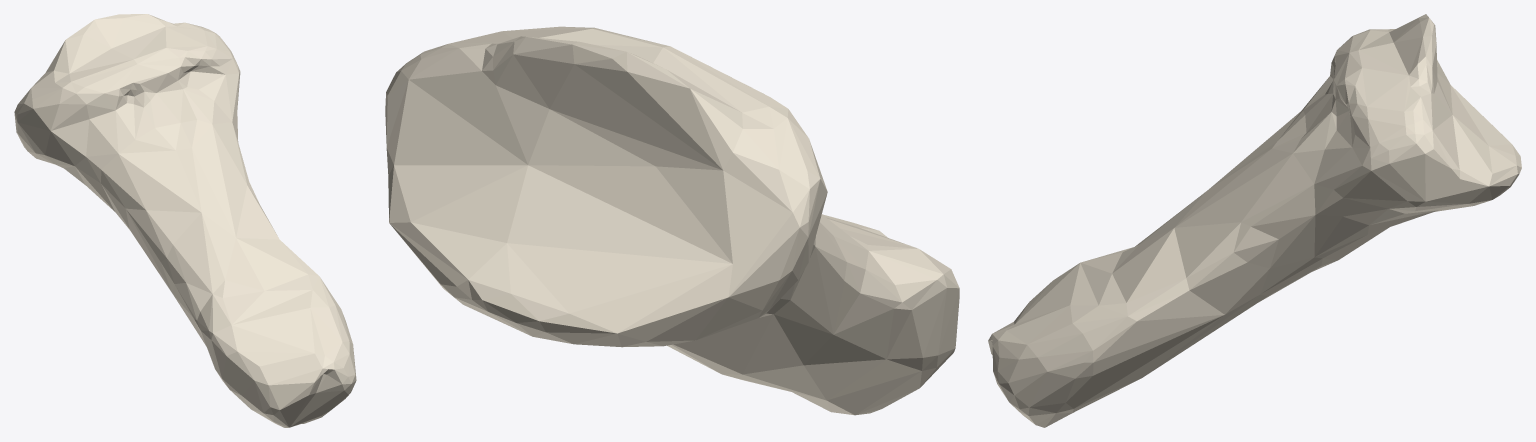
The model's file is left_middle_distal_phalanx.glb.
3 renders of one model, left to right at view 1: azimuth 30°, elevation 25°; view 2: azimuth 150°, elevation 25°; view 3: azimuth 270°, elevation 25°, orthographic. The views are drawn at different scales.
Parts seen in each view (by area): view 1: left_middle_distal_phalanx; view 2: left_middle_distal_phalanx; view 3: left_middle_distal_phalanx.
Part boxes in pixels (x1,y1,x2,y2): left_middle_distal_phalanx: [14, 14, 356, 427]; left_middle_distal_phalanx: [385, 26, 959, 415]; left_middle_distal_phalanx: [988, 14, 1521, 427].
Size of the model in its own units: 0.00968 by 0.0135 by 0.0174.
